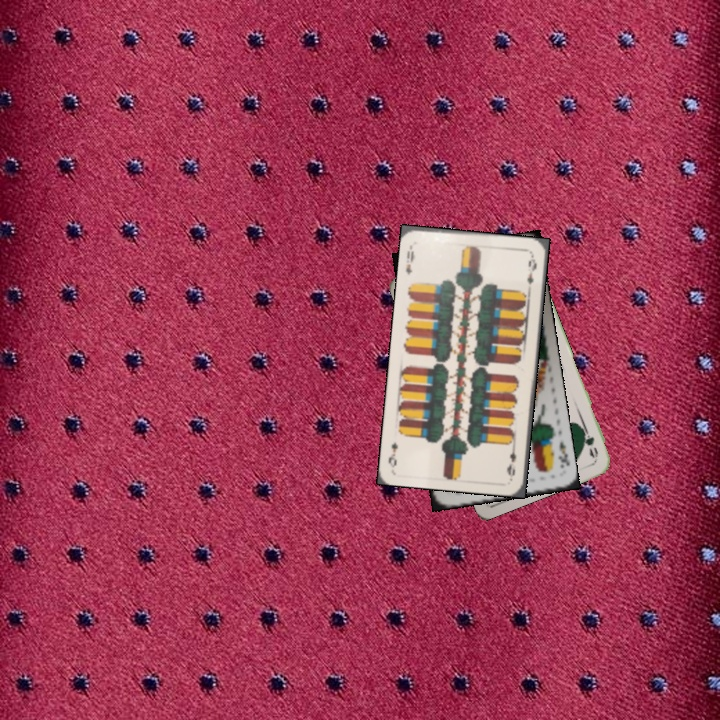E9: (503, 439, 519, 480), (402, 241, 417, 277)
EK: (554, 437, 571, 471)
GO: (576, 421, 601, 461)
